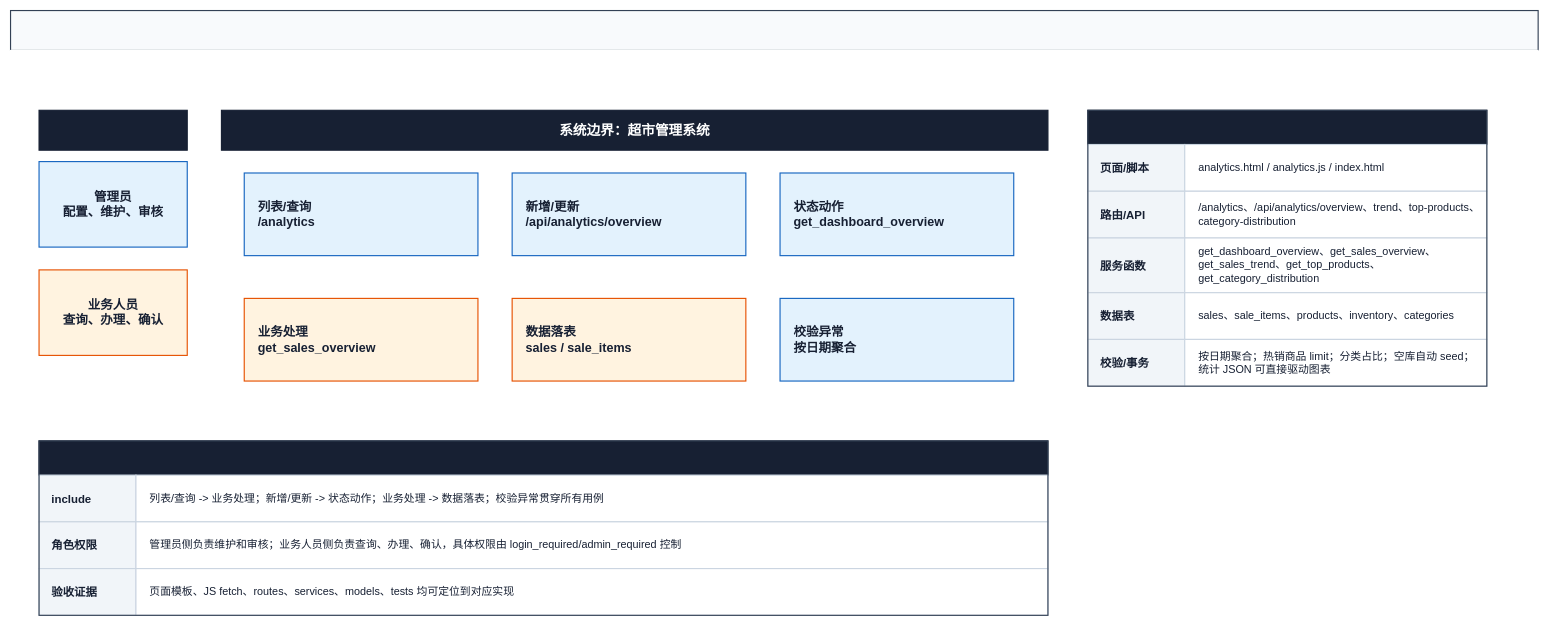
Image size: 1548x625. Some labels were removed from this diagram. Each missing label, with the centre of its shape:
实现明细: (1287,127)
模块级用例矩阵｜角色｜用例｜实现入口｜校验点: (774,62)
用例依赖: (543,457)
经营分析用例图: (774,30)
角色: (113,129)
